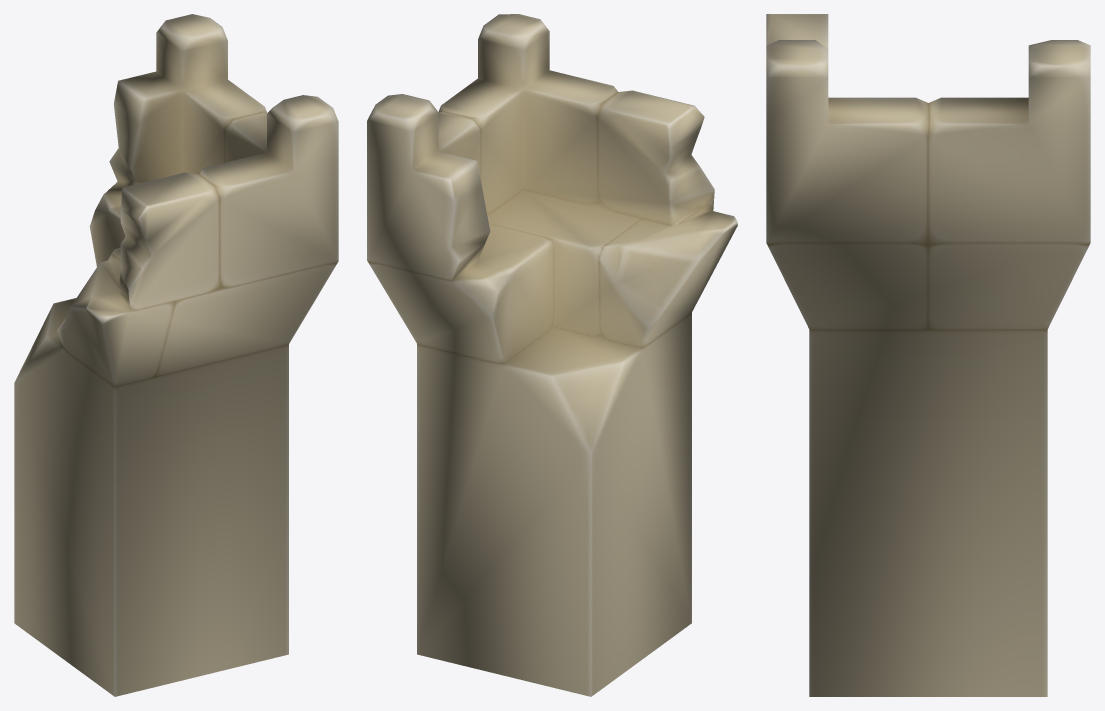
Rendered from tower_chuchoteur_02.fbx.
3 renders of one model, left to right at view 1: azimuth 30°, elevation 25°; view 2: azimuth 150°, elevation 25°; view 3: azimuth 270°, elevation 25°, orthographic. The views are drawn at different scales.
Visible parts, largest first — view 1: tower_chuchoteur_02; view 2: tower_chuchoteur_02; view 3: tower_chuchoteur_02.
Boxes of the visible parts, x1,y1,x2,y2 form: tower_chuchoteur_02: (14, 14, 338, 696); tower_chuchoteur_02: (367, 14, 737, 696); tower_chuchoteur_02: (766, 14, 1090, 696).
Size of the model in its own units: 149 by 329 by 149.
Materials: 1 (1 with a texture image).
